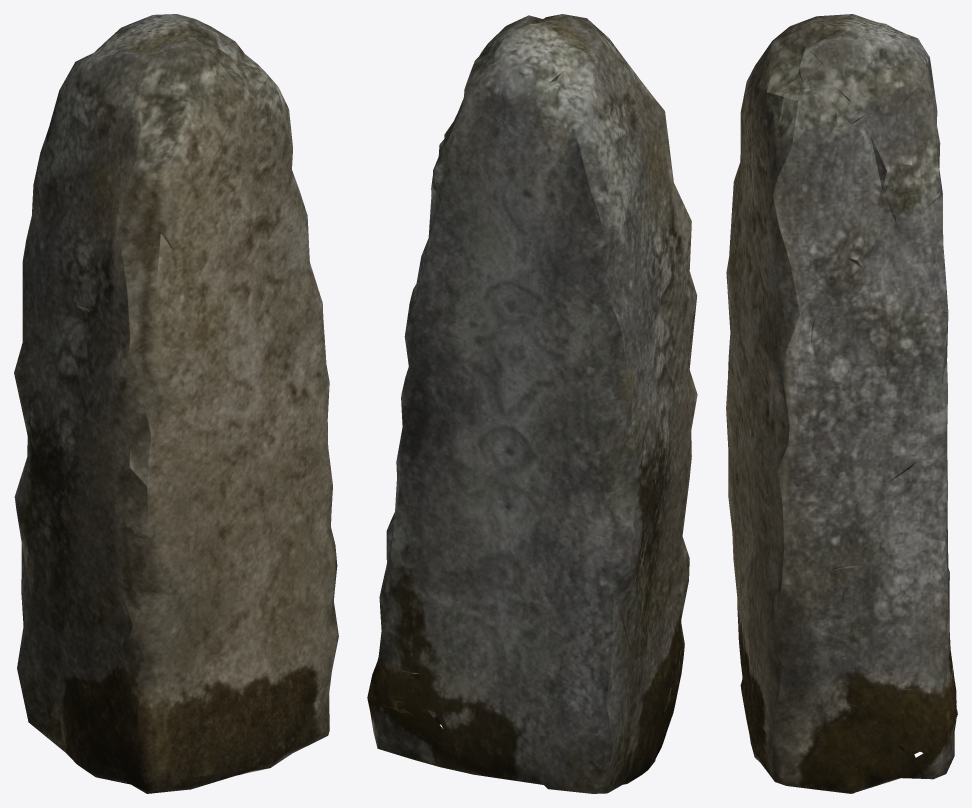
Rendered from stone-a.phone.glb.
3 renders of one model, left to right at view 1: azimuth 30°, elevation 25°; view 2: azimuth 150°, elevation 25°; view 3: azimuth 270°, elevation 25°, orthographic. The views are drawn at different scales.
Parts seen in each view (by area): view 1: stone-a-phone; view 2: stone-a-phone; view 3: stone-a-phone.
Boxes of the visible parts, x1=… form: stone-a-phone: x1=14, y1=14, x2=338, y2=793; stone-a-phone: x1=367, y1=14, x2=697, y2=793; stone-a-phone: x1=726, y1=14, x2=957, y2=793.
Size of the model in its own units: 1.13 by 3 by 0.881.
Materials: 1 (1 with a texture image).
